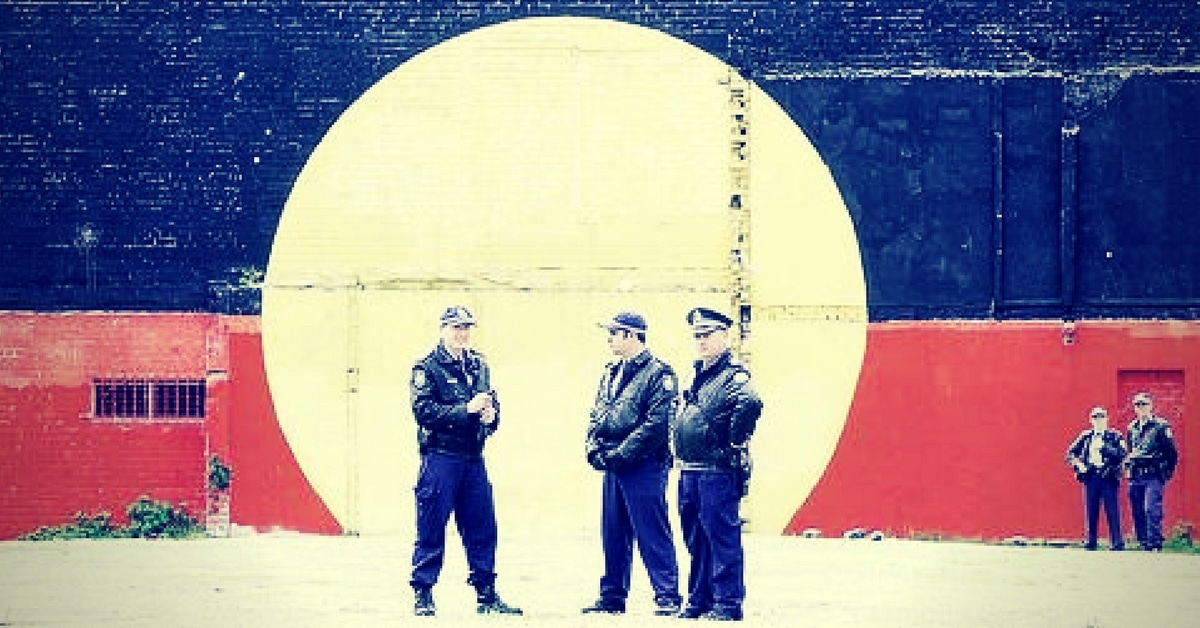aboriginal_flag: (1, 1, 1200, 559)
